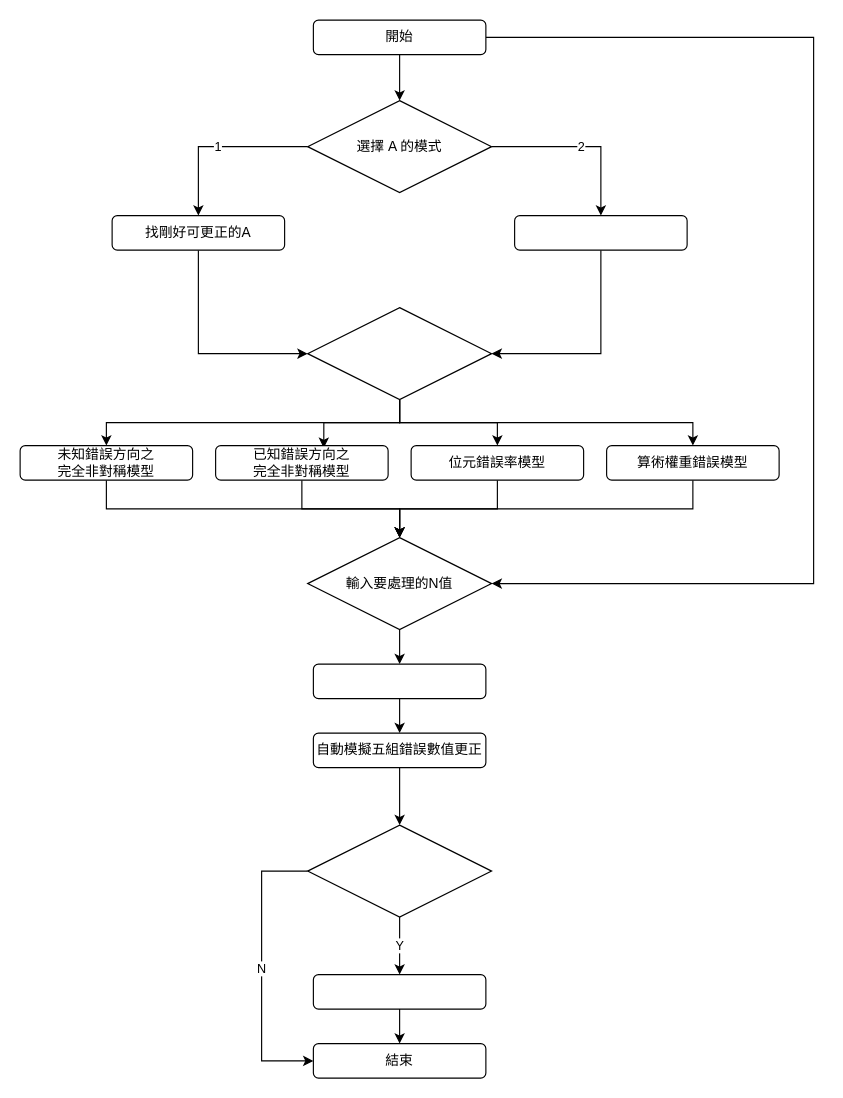
The diagram is 843 pixels wide and 1098 high, and some of its shapes have lost their labels. The box of each missing label's shape, as (x1, y1, x2, y2) in pixels:
依據前面選擇的模式與模型找到適合的A值: (312, 663, 486, 699)
找最合適的A: (513, 214, 687, 250)
是否生成Verilog檔案: (306, 824, 492, 917)
自動編譯並跳出 驗證的波形圖: (312, 973, 486, 1009)
選擇錯誤模型: (306, 306, 492, 400)
